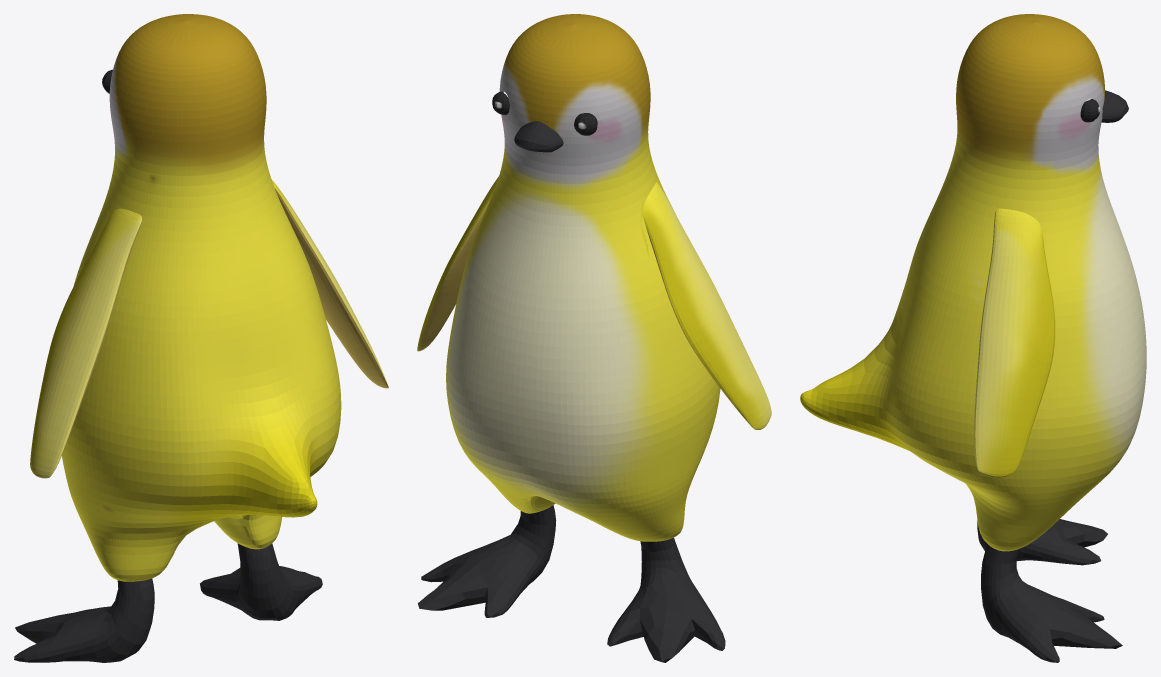
Rendered from Pen_y.glb.
The picture shows the model from 3 angles, left to right: view 1: azimuth 30°, elevation 25°; view 2: azimuth 150°, elevation 25°; view 3: azimuth 270°, elevation 25°; orthographic projection. The views are drawn at different scales.
Visible parts, largest first — view 1: back_sample_mesh.003; view 2: back_sample_mesh.003; view 3: back_sample_mesh.003.
Boxes of the visible parts, x1=… form: back_sample_mesh.003: x1=14, y1=14, x2=388, y2=662; back_sample_mesh.003: x1=417, y1=14, x2=771, y2=662; back_sample_mesh.003: x1=800, y1=14, x2=1146, y2=662.
Size of the model in its own units: 4.3 by 7.1 by 3.87.
1 material, 1 textured.
